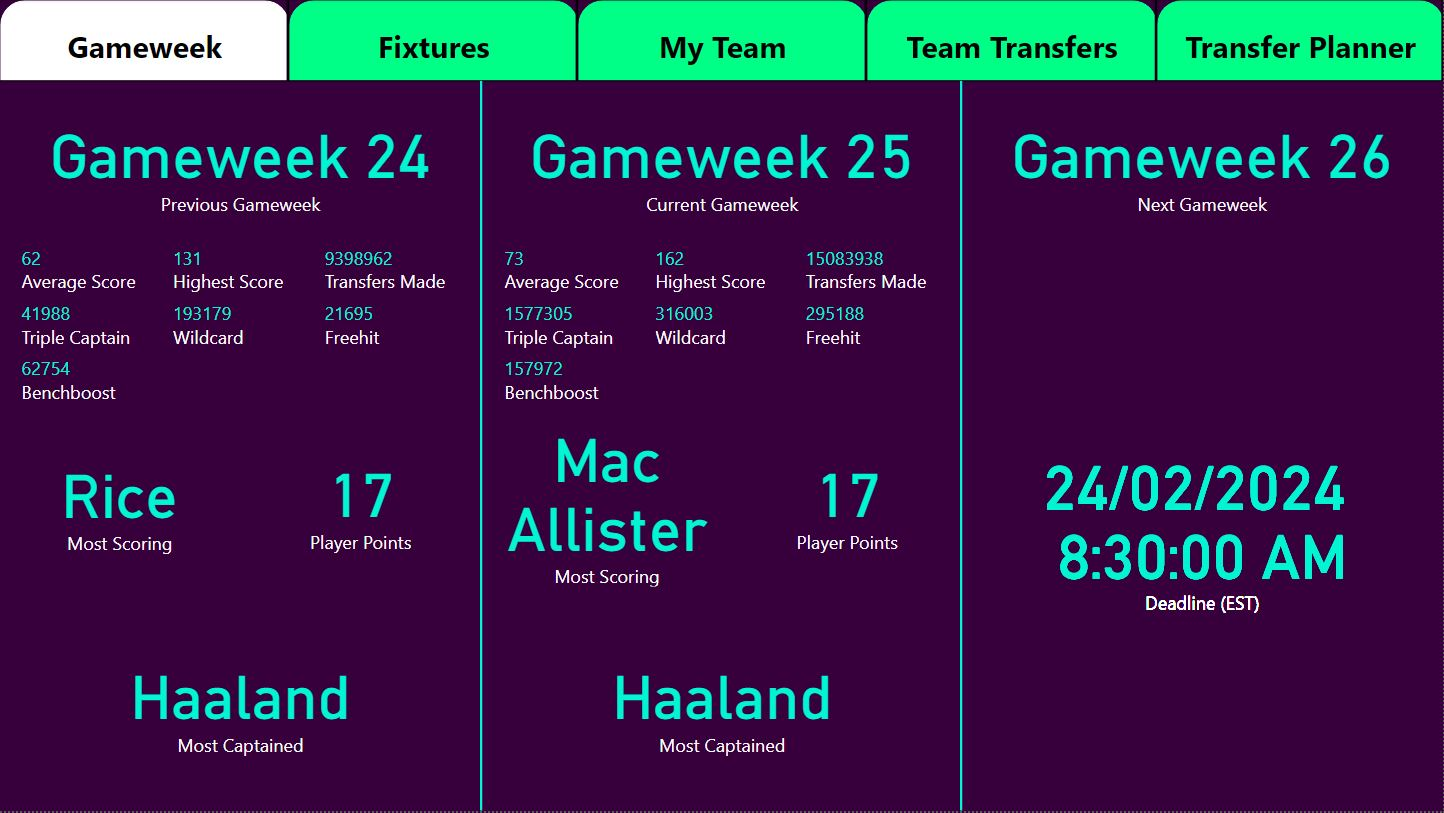

Layout of this report page (visuals, bound fields, positions):
{"tool":"powerbi","page":{"name":"Gameweek","canvas":[1280,720],"ordinal":0},"visuals":[{"type":"card","fields":{"Values":["dbt_marts gameweek_info.gameweek_name"]},"box":[0,73.4,428.2,140.1],"z":0},{"type":"multiRowCard","fields":{"Values":["dbt_marts gameweek_info.average_score","dbt_marts gameweek_info.highest_score","dbt_marts gameweek_info.transfers_made","dbt_marts gameweek_info.triple_captain","dbt_marts gameweek_info.wildcard","dbt_marts gameweek_info.freehit","dbt_marts gameweek_info.benchboost"]},"box":[0,213.5,428.2,150.3],"z":1000},{"type":"card","fields":{"Values":["dbt_marts gameweek_info.most_scoring"]},"box":[0,361.8,214,165.3],"z":2000},{"type":"card","fields":{"Values":["dbt_marts gameweek_info.most_scoring_player_points"]},"box":[214,360.9,214,165.3],"z":3000},{"type":"card","fields":{"Values":["dbt_marts gameweek_info.most_captained"]},"box":[0,526.5,428.2,193.2],"z":4000},{"type":"card","fields":{"Values":["dbt_marts gameweek_info.gameweek_name"]},"box":[428.2,73.4,425.9,140.1],"z":5000},{"type":"multiRowCard","fields":{"Values":["dbt_marts gameweek_info.average_score","dbt_marts gameweek_info.highest_score","dbt_marts gameweek_info.transfers_made","dbt_marts gameweek_info.triple_captain","dbt_marts gameweek_info.wildcard","dbt_marts gameweek_info.freehit","dbt_marts gameweek_info.benchboost"]},"box":[428.3,213.7,425.6,149.9],"z":6000},{"type":"card","fields":{"Values":["dbt_marts gameweek_info.most_scoring"]},"box":[428.2,360.4,221.4,166.1],"z":7000},{"type":"card","fields":{"Values":["dbt_marts gameweek_info.most_scoring_player_points"]},"box":[649.7,360.9,204.3,165.3],"z":8000},{"type":"card","fields":{"Values":["dbt_marts gameweek_info.most_captained"]},"box":[428.2,526.5,425.9,193.2],"z":9000},{"type":"card","fields":{"Values":["dbt_marts gameweek_info.gameweek_name"]},"box":[854.1,73.4,425.9,140.1],"z":10000},{"type":"card","fields":{"Values":["dbt_marts gameweek_info.deadline_time"]},"box":[854,214,426,505.8],"z":11000},{"type":"shape","box":[0,0,256.5,73.4],"z":12000},{"type":"shape","box":[256.5,0,256.5,73.4],"z":13000},{"type":"shape","box":[512.9,0,256.5,73.4],"z":14000},{"type":"shape","box":[768.8,0,257.1,73],"z":15000},{"type":"shape","box":[1025.9,0,254.5,73],"z":16000},{"type":"actionButton","box":[320.8,24.9,135.6,39.5],"z":17000},{"type":"actionButton","box":[571.9,25.3,136.2,38.9],"z":18000},{"type":"actionButton","box":[803.4,25.3,194.5,38.9],"z":19000},{"type":"actionButton","box":[1041.7,25.3,219.8,38.9],"z":20000},{"type":"card","fields":{"Values":["dbt_marts gameweek_info.deadline_time"]},"box":[854,214.2,426,505.8],"z":21000},{"type":"card","fields":{"Values":["dbt_marts gameweek_info.deadline_time"]},"box":[854,214.2,426,505.8],"z":22000},{"type":"card","fields":{"Values":["dbt_marts gameweek_info.deadline_time"]},"box":[854,214.2,426,505.8],"z":23000},{"type":"card","fields":{"Values":["dbt_marts gameweek_info.deadline_time"]},"box":[854,214.2,426,505.8],"z":24000},{"type":"card","fields":{"Values":["dbt_marts gameweek_info.deadline_time"]},"box":[854,214.2,426,505.8],"z":25000},{"type":"shape","box":[421.2,72.9,12.6,646.8],"z":26000},{"type":"shape","box":[847.2,72.9,12.6,646.8],"z":27000}]}

Visuals, with their boxes on the page's 1280x720 design canvas (x1, y1, x2, y2). These are canvas units, not pixel positions in the 1444x813 screenshot, which may show the page scaled, cropped or inside an application window:
card - dbt_marts gameweek_info.gameweek_name: [x1=0, y1=73, x2=428, y2=214]
multiRowCard - dbt_marts gameweek_info.average_score x dbt_marts gameweek_info.highest_score: [x1=0, y1=214, x2=428, y2=364]
card - dbt_marts gameweek_info.most_scoring: [x1=0, y1=362, x2=214, y2=527]
card - dbt_marts gameweek_info.most_scoring_player_points: [x1=214, y1=361, x2=428, y2=526]
card - dbt_marts gameweek_info.most_captained: [x1=0, y1=526, x2=428, y2=720]
card - dbt_marts gameweek_info.gameweek_name: [x1=428, y1=73, x2=854, y2=214]
multiRowCard - dbt_marts gameweek_info.average_score x dbt_marts gameweek_info.highest_score: [x1=428, y1=214, x2=854, y2=364]
card - dbt_marts gameweek_info.most_scoring: [x1=428, y1=360, x2=650, y2=526]
card - dbt_marts gameweek_info.most_scoring_player_points: [x1=650, y1=361, x2=854, y2=526]
card - dbt_marts gameweek_info.most_captained: [x1=428, y1=526, x2=854, y2=720]
card - dbt_marts gameweek_info.gameweek_name: [x1=854, y1=73, x2=1280, y2=214]
card - dbt_marts gameweek_info.deadline_time: [x1=854, y1=214, x2=1280, y2=720]
shape: [x1=0, y1=0, x2=256, y2=73]
shape: [x1=256, y1=0, x2=513, y2=73]
shape: [x1=513, y1=0, x2=769, y2=73]
shape: [x1=769, y1=0, x2=1026, y2=73]
shape: [x1=1026, y1=0, x2=1280, y2=73]
actionButton: [x1=321, y1=25, x2=456, y2=64]
actionButton: [x1=572, y1=25, x2=708, y2=64]
actionButton: [x1=803, y1=25, x2=998, y2=64]
actionButton: [x1=1042, y1=25, x2=1262, y2=64]
card - dbt_marts gameweek_info.deadline_time: [x1=854, y1=214, x2=1280, y2=720]
card - dbt_marts gameweek_info.deadline_time: [x1=854, y1=214, x2=1280, y2=720]
card - dbt_marts gameweek_info.deadline_time: [x1=854, y1=214, x2=1280, y2=720]
card - dbt_marts gameweek_info.deadline_time: [x1=854, y1=214, x2=1280, y2=720]
card - dbt_marts gameweek_info.deadline_time: [x1=854, y1=214, x2=1280, y2=720]
shape: [x1=421, y1=73, x2=434, y2=720]
shape: [x1=847, y1=73, x2=860, y2=720]
